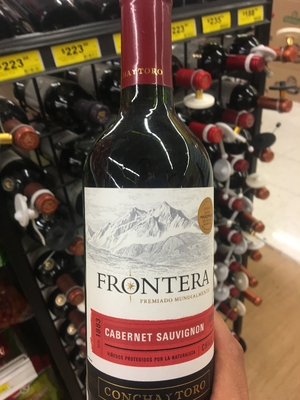frontera cabernet sauvignon: (76, 22, 232, 400)
